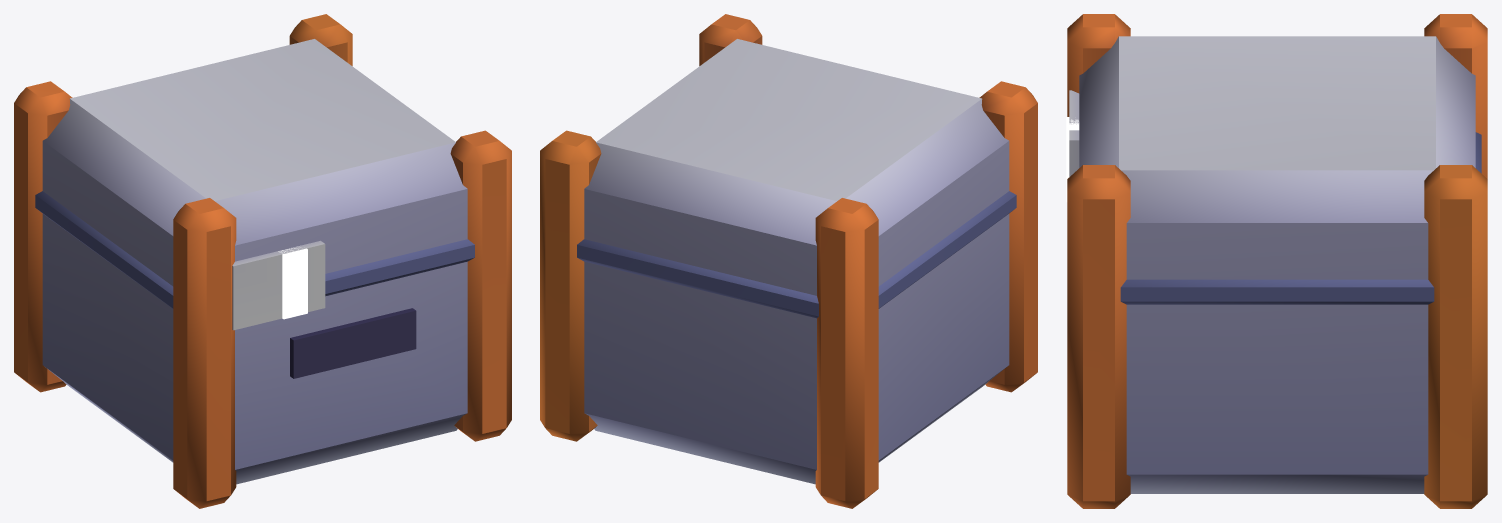
File: hub_prop_crate_a.glb
The picture shows the model from 3 angles, left to right: view 1: azimuth 30°, elevation 25°; view 2: azimuth 150°, elevation 25°; view 3: azimuth 270°, elevation 25°; orthographic projection. The views are drawn at different scales.
Visible parts, largest first — view 1: hub_prop_crate_a; view 2: hub_prop_crate_a; view 3: hub_prop_crate_a.
Boxes of the visible parts, left/top/right/bottom form: hub_prop_crate_a: left=14, top=14, right=511, bottom=508; hub_prop_crate_a: left=540, top=14, right=1037, bottom=508; hub_prop_crate_a: left=1066, top=14, right=1487, bottom=508.
Size of the model in its own units: 1.06 by 0.92 by 1.06.
